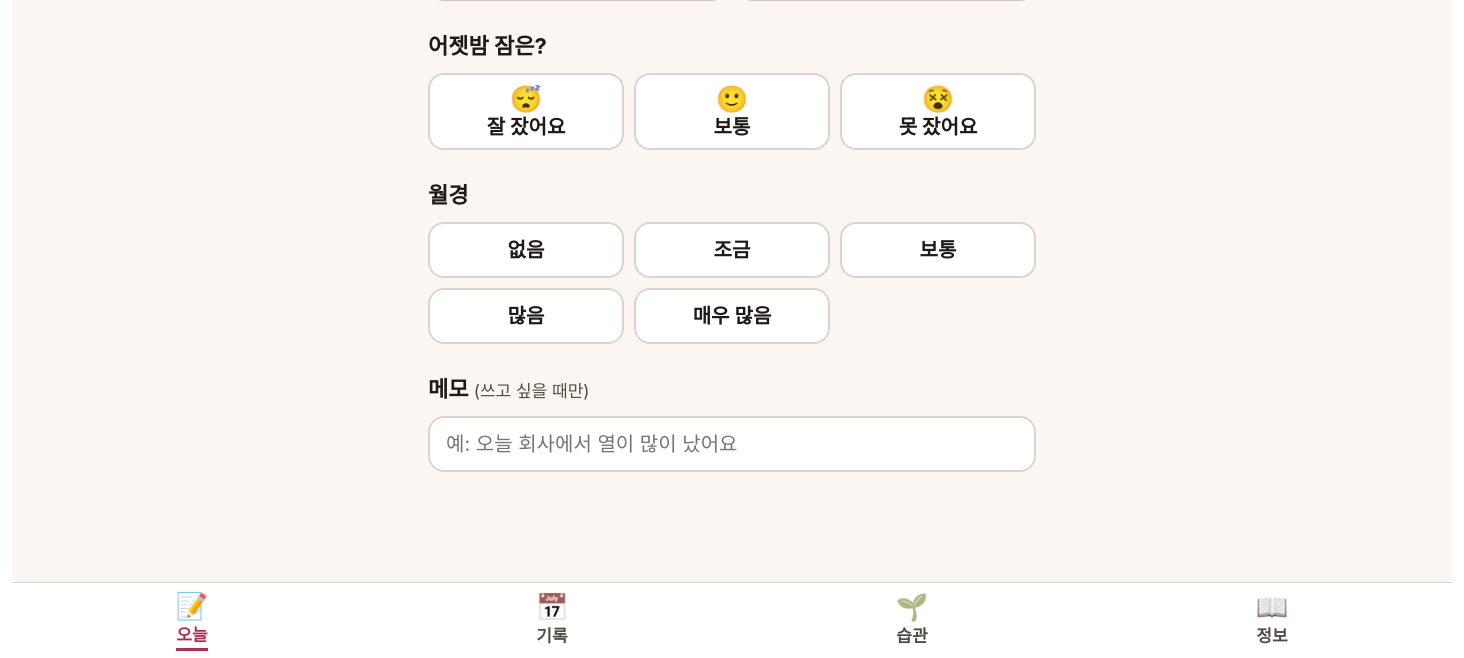
주의 신호가 기록되면 오늘 화면에 부드러운 안내 카드가 뜨고, 닫을 수 있다
(page scrolled)
Click the button "매우 많음" at (732, 316), box [634,288,830,344]
(page scrolled)
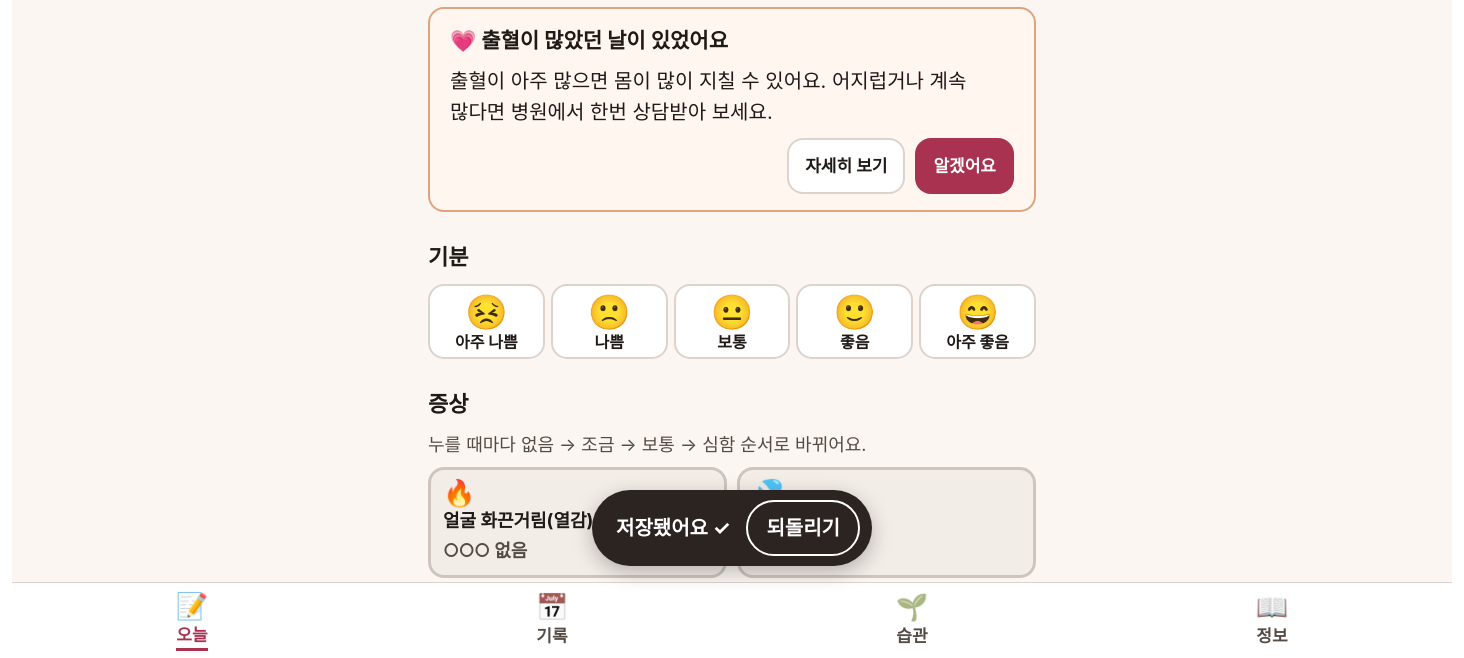
Check: the heading "💗 출혈이 많았던 날이 있었어요" is shown, box [450,28,728,53]
Click the button "알겠어요" at (965, 166), box [915,138,1014,194]
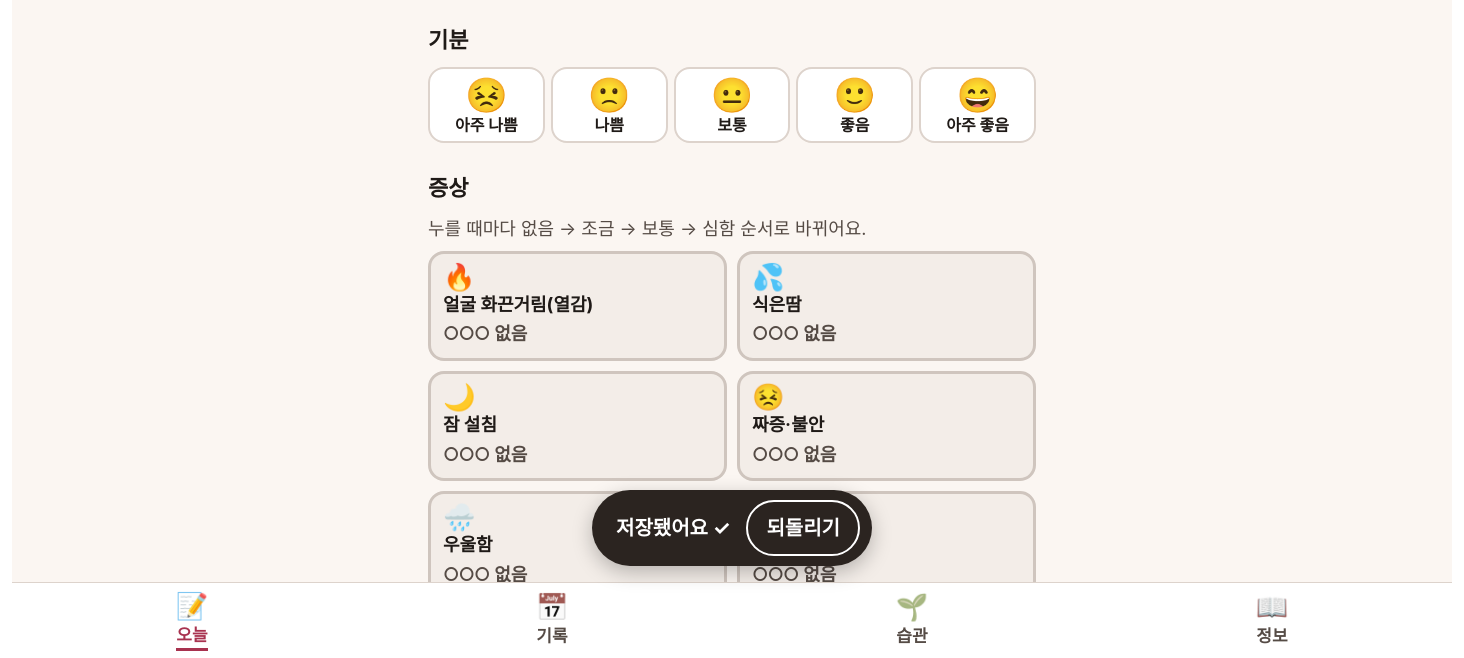
Check: the heading "출혈이 많았던 날이 있었어요" is gone
